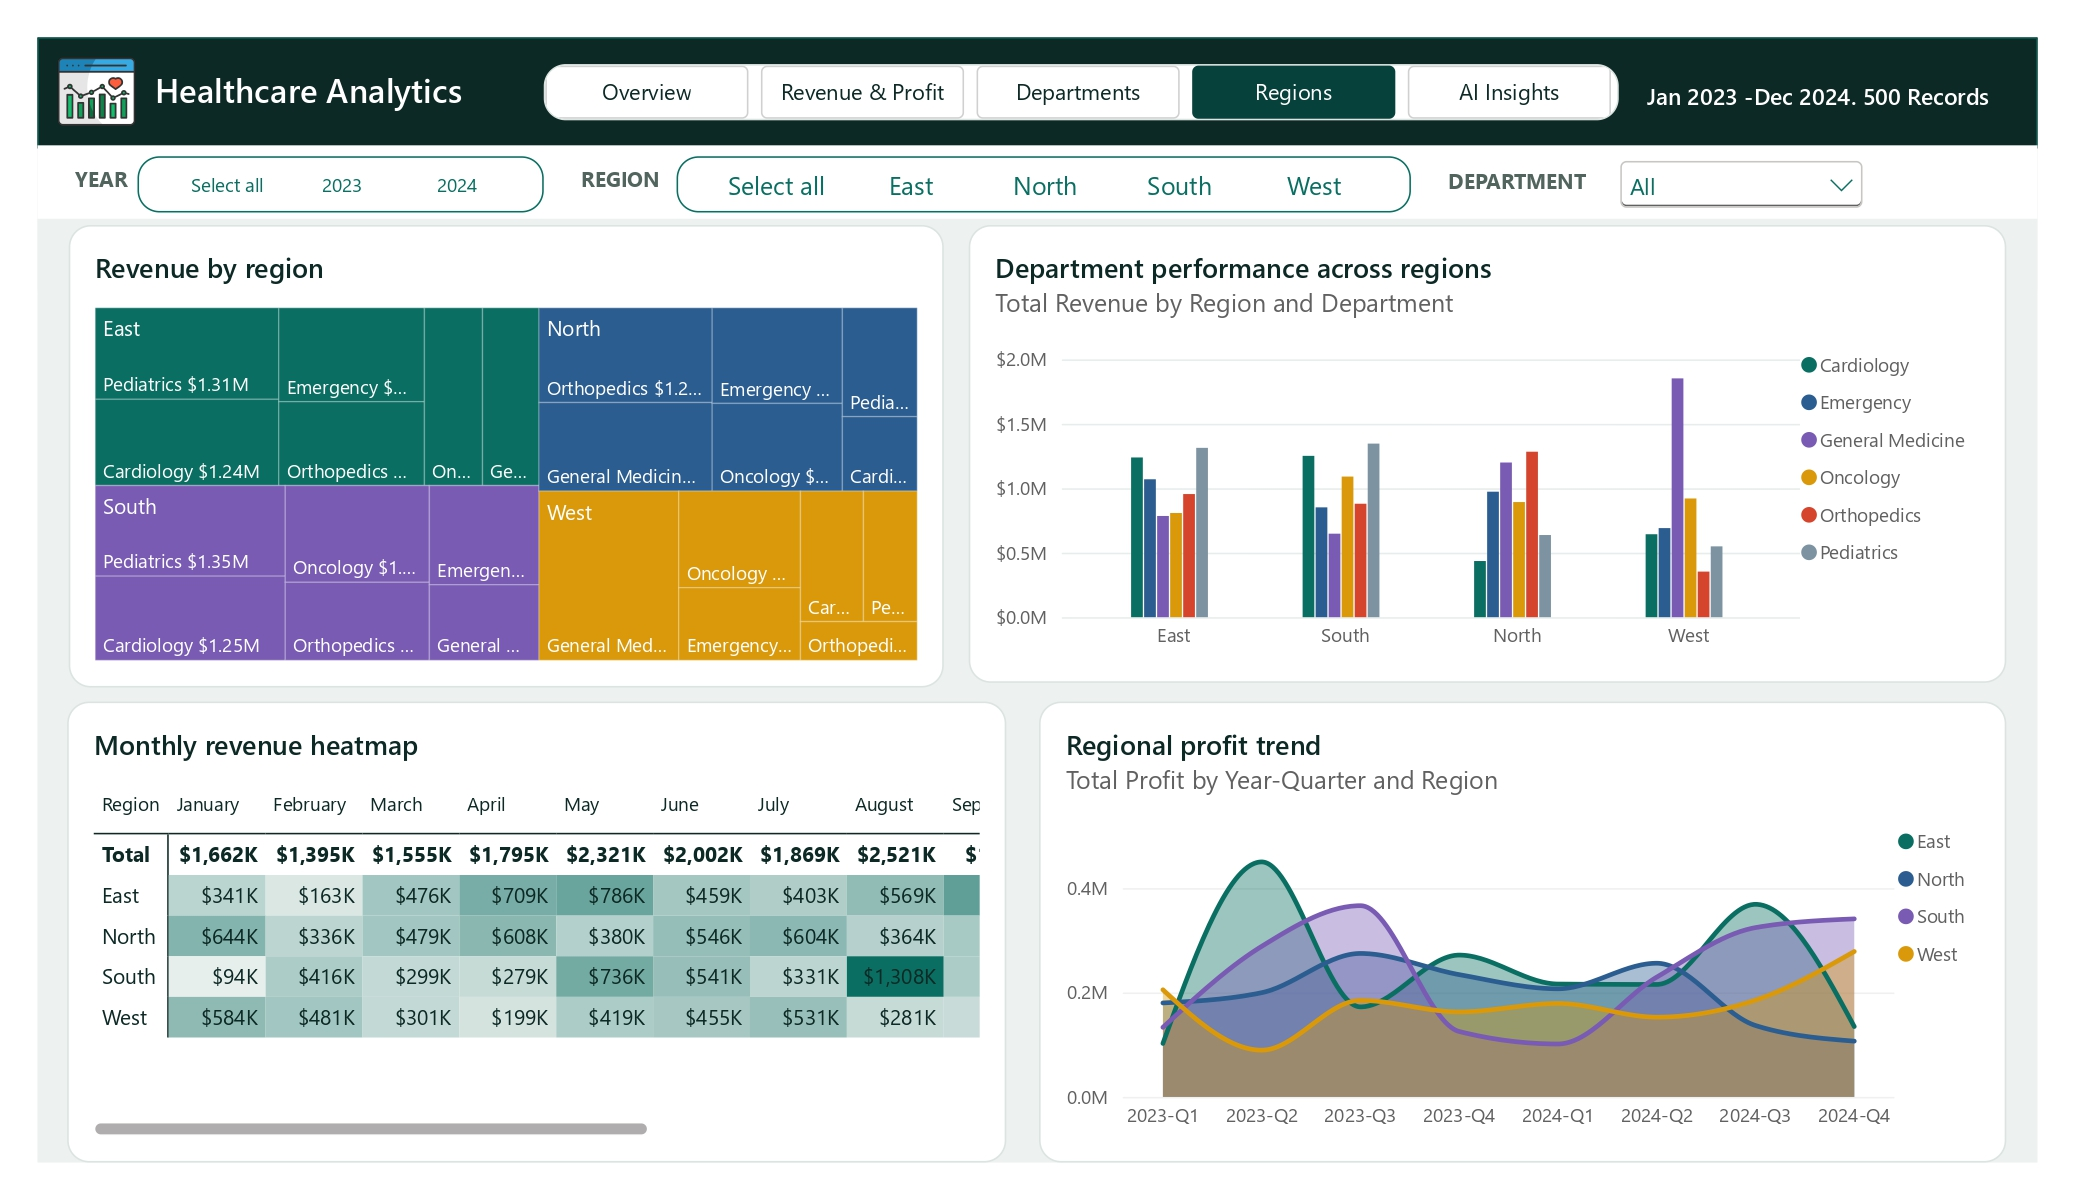

What the dashboard file says about the page in this screenshot:
{"tool":"powerbi","page":{"name":"Regions","canvas":[1280,720],"ordinal":3},"visuals":[{"type":"shape","box":[0,0,1279.7,70.7],"z":0},{"type":"shape","box":[0,69,1280,47],"z":1000},{"type":"slicer","fields":{"Values":["DateTable.Year"]},"box":[64,75.8,260,36],"z":2000},{"type":"slicer","fields":{"Values":["Sheet1.Region"]},"box":[408.8,75.8,470.2,36.6],"z":3000},{"type":"slicer","fields":{"Values":["Sheet1.Department"]},"box":[1008.3,74.4,164.6,36.6],"z":4000},{"type":"textbox","box":[24,82,50.5,34.6],"z":5000},{"type":"textbox","box":[348,82,56,24],"z":6000},{"type":"textbox","box":[902.5,83,94,23.5],"z":7000},{"type":"textbox","box":[75,18.8,228,31.7],"z":8000},{"type":"image","box":[11.2,0,52.9,68.9],"z":9000},{"type":"textbox","box":[1030,27,249.5,30],"z":10000},{"type":"treemap","title":"Revenue by region","fields":{"Details":["Sheet1.Department"],"Group":["Sheet1.Region"],"Values":["_Measures.Total Revenue"]},"box":[20,120,560,296],"z":11000},{"type":"clusteredColumnChart","title":"Department performance across regions","fields":{"Category":["Sheet1.Region"],"Series":["Sheet1.Department"],"Y":["_Measures.Total Revenue"]},"box":[595.8,120,664.7,293.1],"z":12000},{"type":"pivotTable","title":"Monthly revenue heatmap","fields":{"Columns":["DateTable.Month Name"],"Rows":["Sheet1.Region"],"Values":["_Measures.Total Revenue"]},"box":[19.2,425.3,600.6,294.7],"z":13000},{"type":"areaChart","title":"Regional profit trend","fields":{"Category":["DateTable.Year-Quarter"],"Series":["Sheet1.Region"],"Y":["_Measures.Total Profit"]},"box":[640.7,425.3,619.8,294.7],"z":14000},{"type":"pageNavigator","box":[323.9,17,688,36],"z":15000}]}

Visuals, with their boxes on the page's 1280x720 design canvas (x1, y1, x2, y2). These are canvas units, not pixel positions in the 2075x1200 screenshot, which may show the page scaled, cropped or inside an application window:
shape: Rect(0, 0, 1280, 71)
shape: Rect(0, 69, 1280, 116)
slicer - DateTable.Year: Rect(64, 76, 324, 112)
slicer - Sheet1.Region: Rect(409, 76, 879, 112)
slicer - Sheet1.Department: Rect(1008, 74, 1173, 111)
textbox: Rect(24, 82, 74, 117)
textbox: Rect(348, 82, 404, 106)
textbox: Rect(902, 83, 996, 106)
textbox: Rect(75, 19, 303, 50)
image: Rect(11, 0, 64, 69)
textbox: Rect(1030, 27, 1280, 57)
"Revenue by region" treemap: Rect(20, 120, 580, 416)
"Department performance across regions" clusteredColumnChart: Rect(596, 120, 1260, 413)
"Monthly revenue heatmap" pivotTable: Rect(19, 425, 620, 720)
"Regional profit trend" areaChart: Rect(641, 425, 1260, 720)
pageNavigator: Rect(324, 17, 1012, 53)
